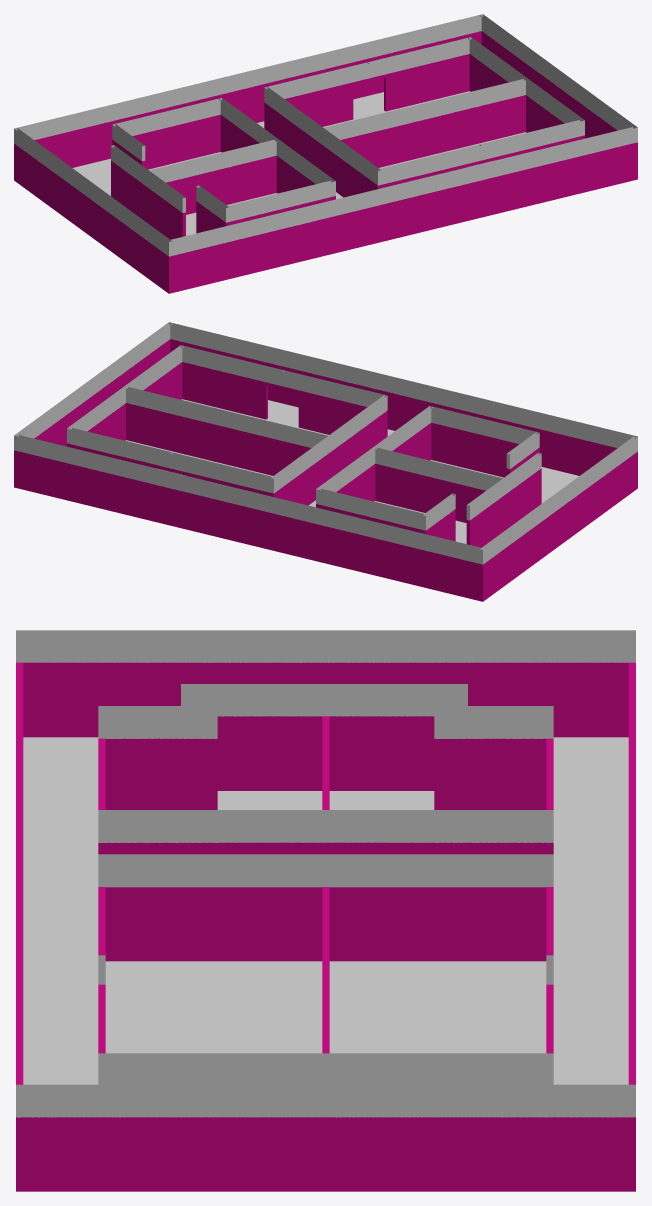
Rendered from Paredes2.dae.
3 renders of one model, top to bottom at view 1: azimuth 30°, elevation 25°; view 2: azimuth 150°, elevation 25°; view 3: azimuth 270°, elevation 25°, orthographic. The views are drawn at different scales.
Visible parts, largest first — view 1: Plane; view 2: Plane; view 3: Plane.
Boxes of the visible parts, x1=… form: Plane: x1=14, y1=14, x2=637, y2=293; Plane: x1=14, y1=322, x2=637, y2=601; Plane: x1=16, y1=630, x2=635, y2=1191.
Size of the model in its own units: 145 by 83 by 15.34.
